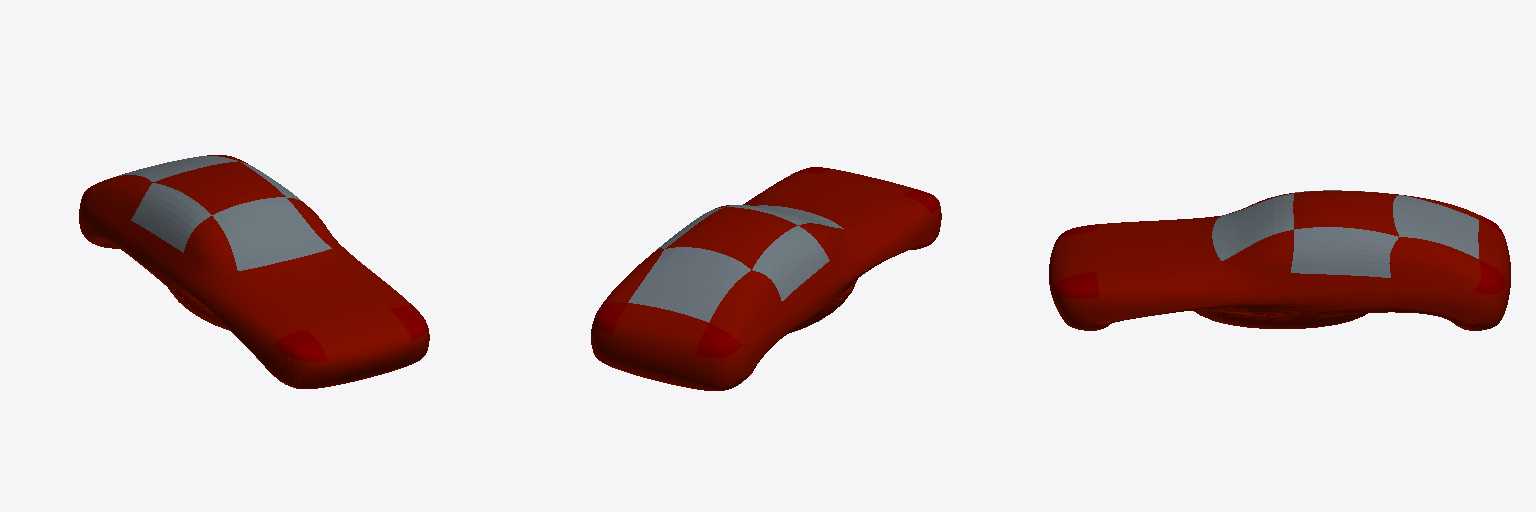
The model's file is futuristic.obj.
3 renders of one model, left to right at view 1: azimuth 30°, elevation 25°; view 2: azimuth 150°, elevation 25°; view 3: azimuth 270°, elevation 25°, orthographic.
Visible parts, largest first — view 1: Mesh.002_Mesh.001_Cube.001_Mesh.001, Mesh.001_Mesh_Cube.001_Mesh, Mesh_Mesh.002_Cube.001_Mesh.002; view 2: Mesh.002_Mesh.001_Cube.001_Mesh.001, Mesh.001_Mesh_Cube.001_Mesh, Mesh_Mesh.002_Cube.001_Mesh.002; view 3: Mesh.002_Mesh.001_Cube.001_Mesh.001, Mesh.001_Mesh_Cube.001_Mesh, Mesh_Mesh.002_Cube.001_Mesh.002.
Boxes of the visible parts, <box> form: Mesh.002_Mesh.001_Cube.001_Mesh.001: <box>79,155,429,388</box>; Mesh.001_Mesh_Cube.001_Mesh: <box>116,156,331,270</box>; Mesh_Mesh.002_Cube.001_Mesh.002: <box>82,177,427,361</box>; Mesh.002_Mesh.001_Cube.001_Mesh.001: <box>591,169,941,390</box>; Mesh.001_Mesh_Cube.001_Mesh: <box>628,205,843,322</box>; Mesh_Mesh.002_Cube.001_Mesh.002: <box>593,167,939,357</box>; Mesh.002_Mesh.001_Cube.001_Mesh.001: <box>1049,191,1510,330</box>; Mesh.001_Mesh_Cube.001_Mesh: <box>1212,190,1478,277</box>; Mesh_Mesh.002_Cube.001_Mesh.002: <box>1053,216,1505,298</box>.
Size of the model in its own units: 5.99 by 3.92 by 15.55.